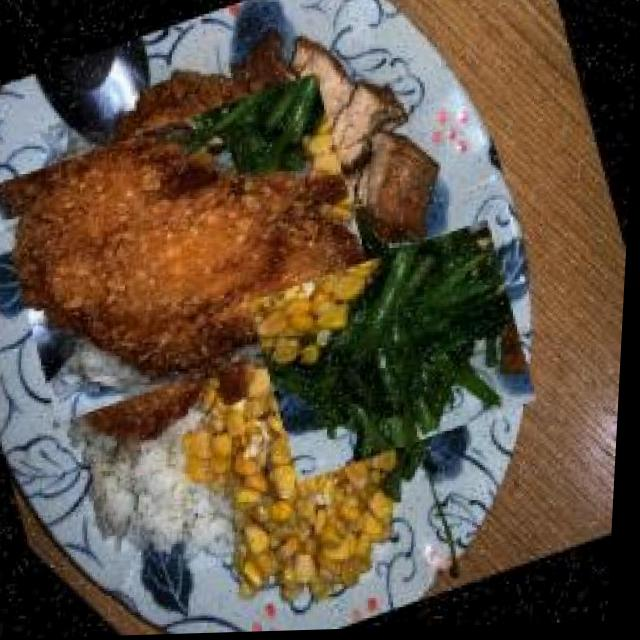fried_chicken: (0, 61, 382, 440)
rice: (86, 422, 248, 588)
water_spinach: (255, 212, 541, 494)
